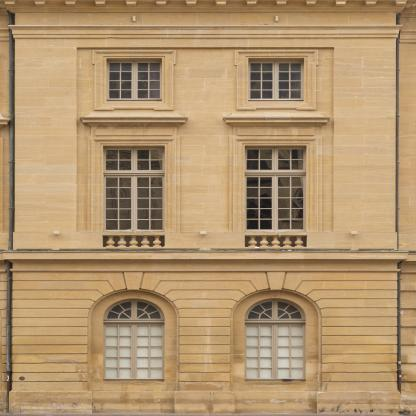Building Outline: (0, 0, 415, 415)
Cornice: (222, 112, 331, 126), (80, 112, 188, 126)
Facade: (1, 0, 415, 415)
Floor: (1, 126, 416, 251), (1, 0, 416, 116)
Floor Slab: (1, 251, 416, 261), (1, 116, 416, 126)
Ground Floor: (1, 262, 416, 416)
Molding: (2, 251, 409, 272), (3, 0, 408, 16), (8, 25, 403, 40)
Window: (232, 290, 319, 391), (90, 290, 177, 391), (103, 145, 165, 232), (245, 145, 307, 232), (103, 298, 165, 382), (245, 298, 306, 382), (107, 58, 162, 100), (249, 58, 304, 100)
